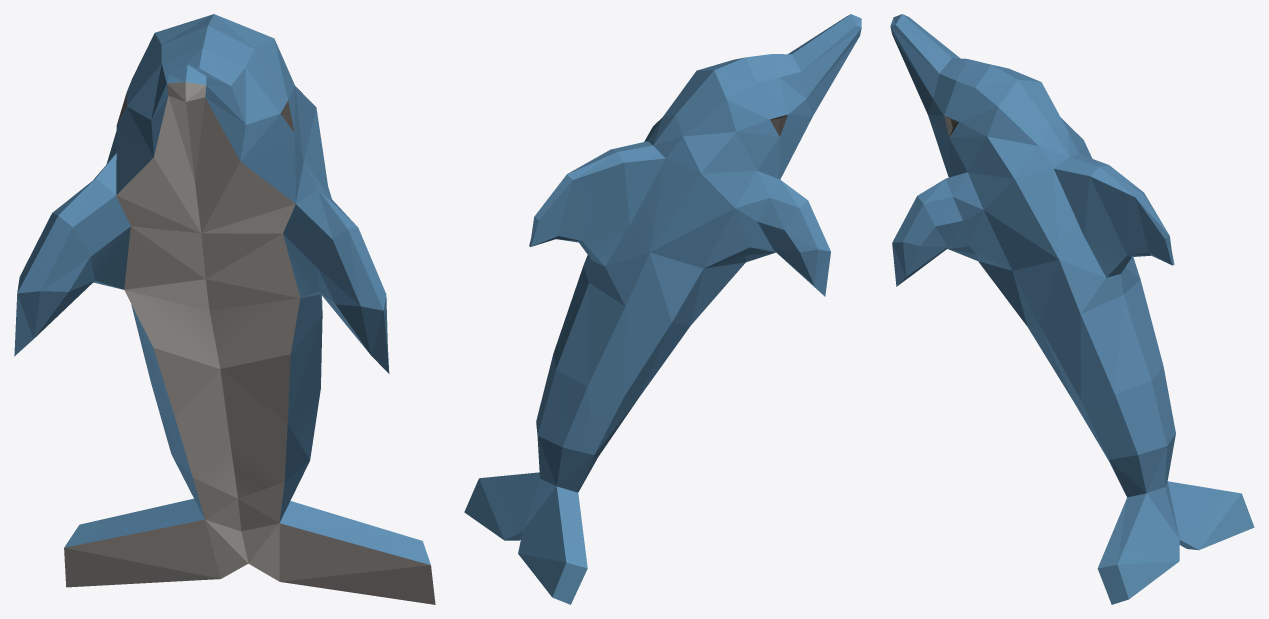
Rendered from dolphin_anim.fbx.
The picture shows the model from 3 angles, left to right: view 1: azimuth 30°, elevation 25°; view 2: azimuth 150°, elevation 25°; view 3: azimuth 270°, elevation 25°; orthographic projection. The views are drawn at different scales.
Visible parts, largest first — view 1: dolphins; view 2: dolphins; view 3: dolphins.
Boxes of the visible parts, left/top/right/bottom form: dolphins: left=14, top=14, right=435, bottom=604; dolphins: left=464, top=14, right=861, bottom=604; dolphins: left=890, top=14, right=1254, bottom=604.
Bounding box in the file's own units: 1.59 × 2.35 × 1.67.
1 material, 1 textured.
